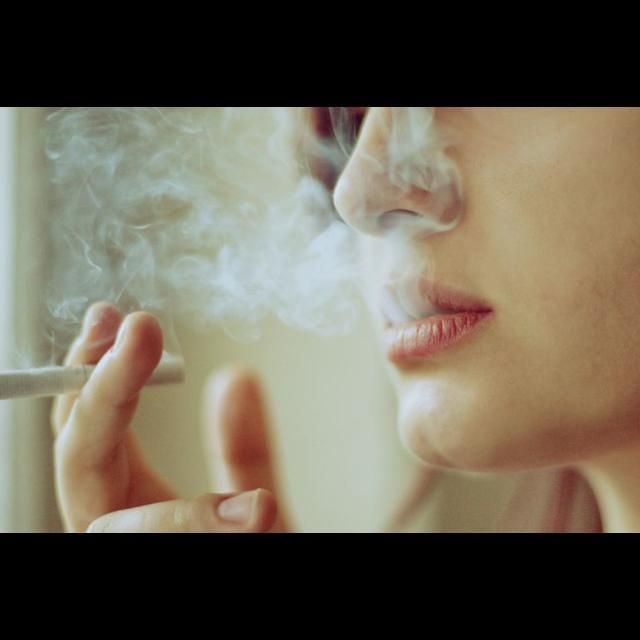rokok: (0, 344, 184, 412)
